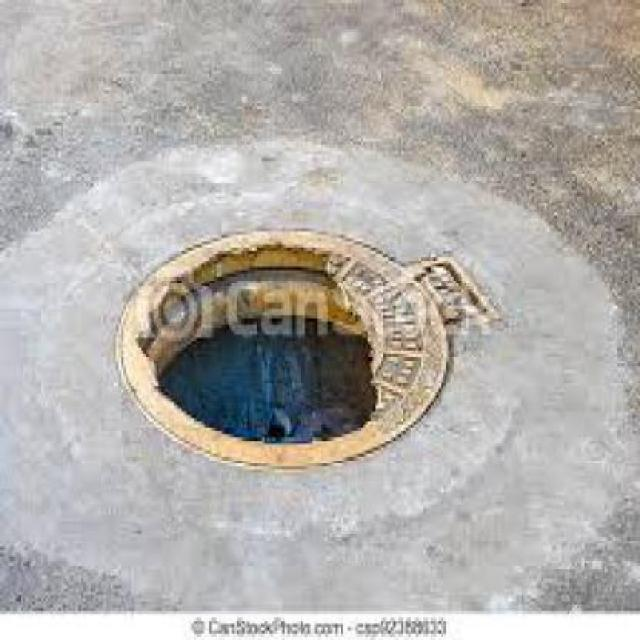Open Manhole: (113, 228, 470, 469)
